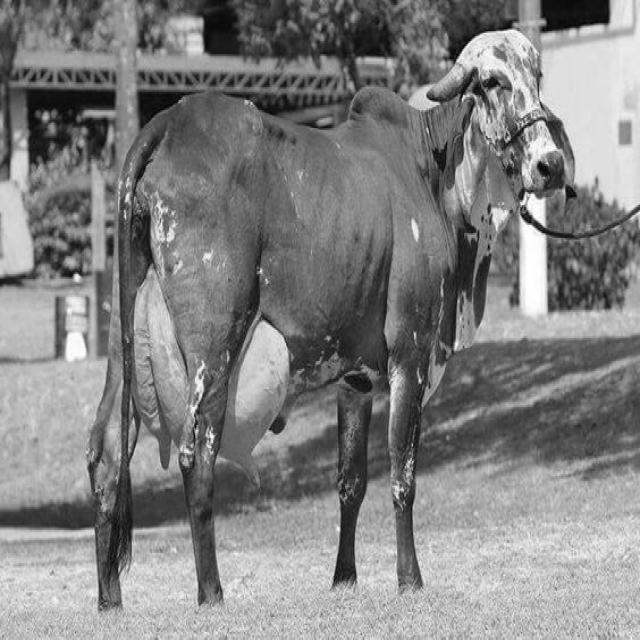Cow: (85, 27, 575, 610)
